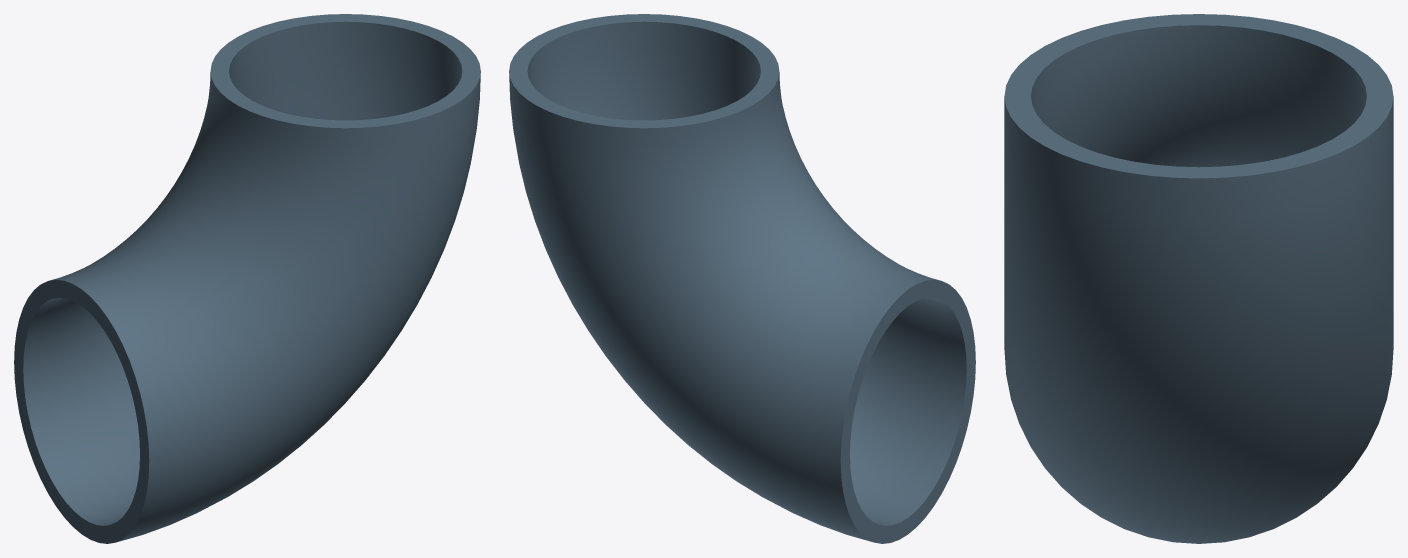
File: otvod-90-33_7x2_3-R38.glb
The picture shows the model from 3 angles, left to right: view 1: azimuth 30°, elevation 25°; view 2: azimuth 150°, elevation 25°; view 3: azimuth 270°, elevation 25°; orthographic projection. The views are drawn at different scales.
Parts seen in each view (by area): view 1: Open CASCADE STEP translator 7.9 6; view 2: Open CASCADE STEP translator 7.9 6; view 3: Open CASCADE STEP translator 7.9 6.
Boxes of the visible parts, left/top/right/bottom form: Open CASCADE STEP translator 7.9 6: left=14, top=14, right=480, bottom=543; Open CASCADE STEP translator 7.9 6: left=509, top=14, right=975, bottom=543; Open CASCADE STEP translator 7.9 6: left=1004, top=14, right=1393, bottom=543.
Size of the model in its own units: 54.85 by 54.85 by 33.7.
